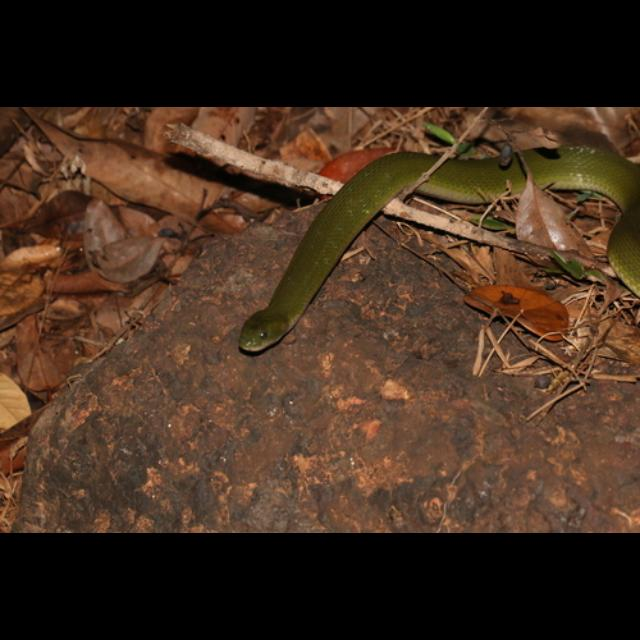snake: (234, 137, 640, 359)
